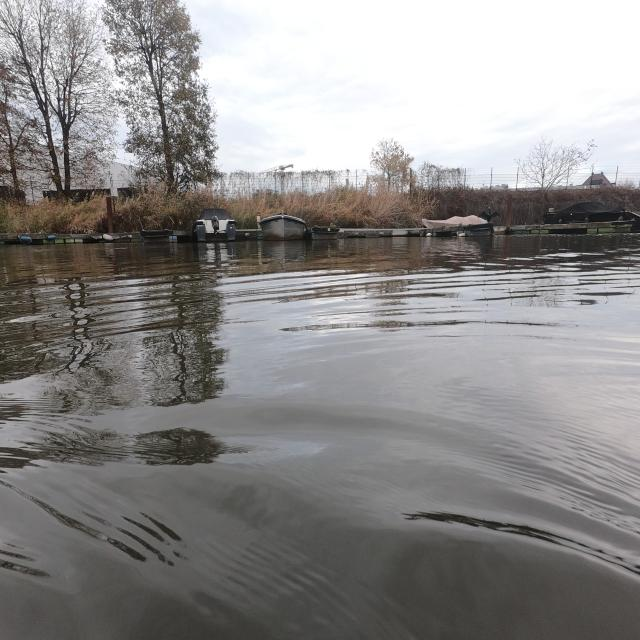boat: (190, 209, 236, 242), (260, 213, 306, 240), (423, 215, 492, 228)
reed: (116, 187, 434, 231), (0, 195, 107, 232)
sky: (184, 0, 640, 172)
tree: (104, 0, 218, 191)
water: (0, 235, 640, 640)
